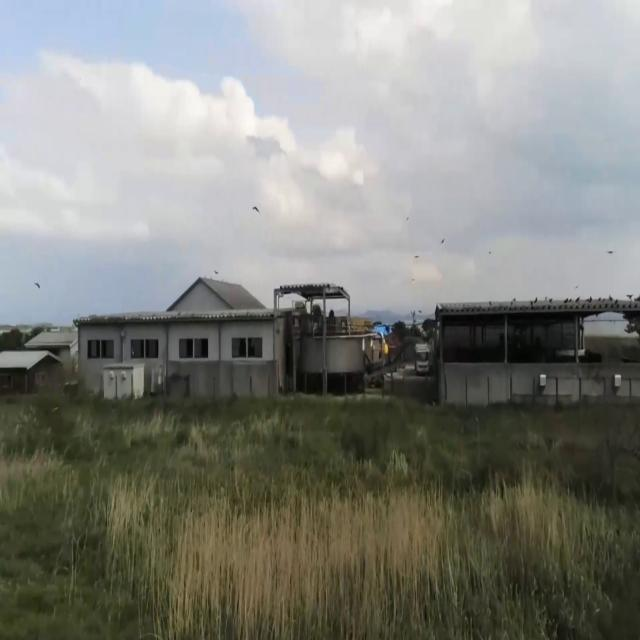bird: (252, 197, 260, 221), (34, 274, 41, 296)
